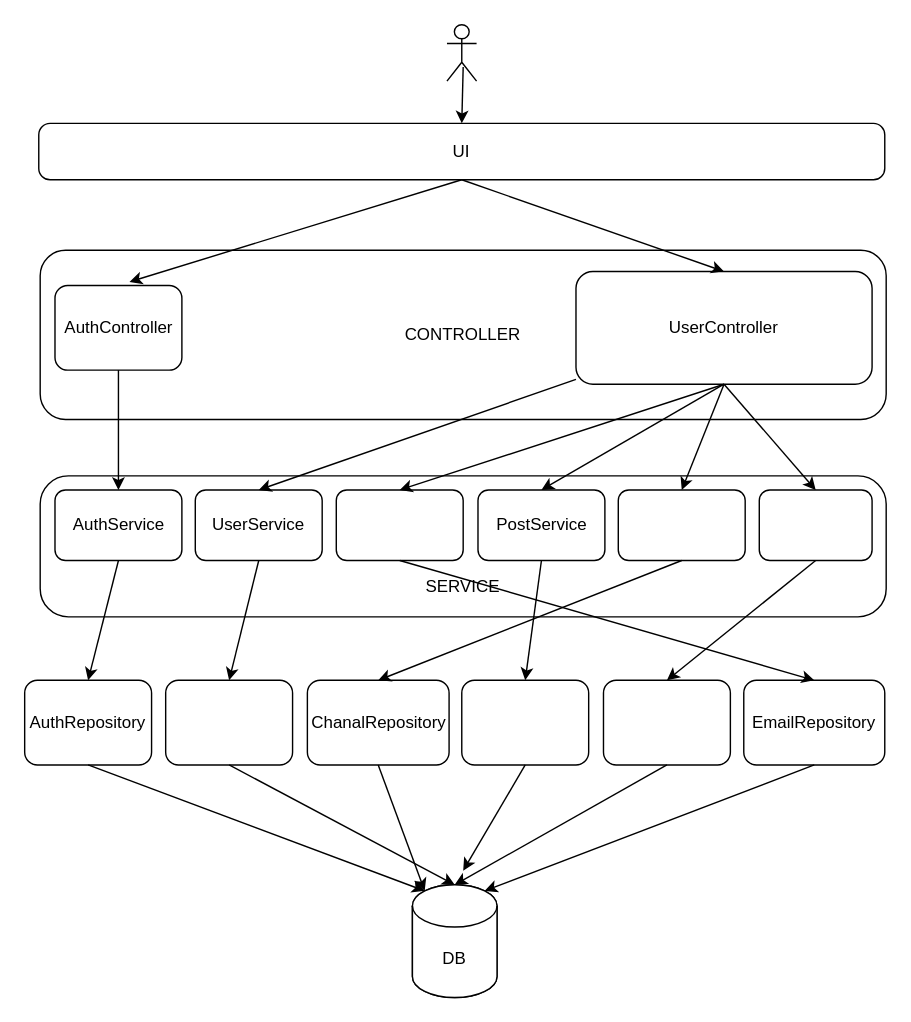
The diagram is 911 pixels wide and 1022 high, and some of its shapes have lost their labels. Each missing label, with the centre of its shape:
"Actor" goes at [461,52].
"ChanalService" goes at [681,524].
"EmailService" goes at [399,524].
"LikeRepository" goes at [666,722].
"LikeService" goes at [815,524].
"PostRepository" goes at [524,722].
"UserRepository" goes at [228,722].
